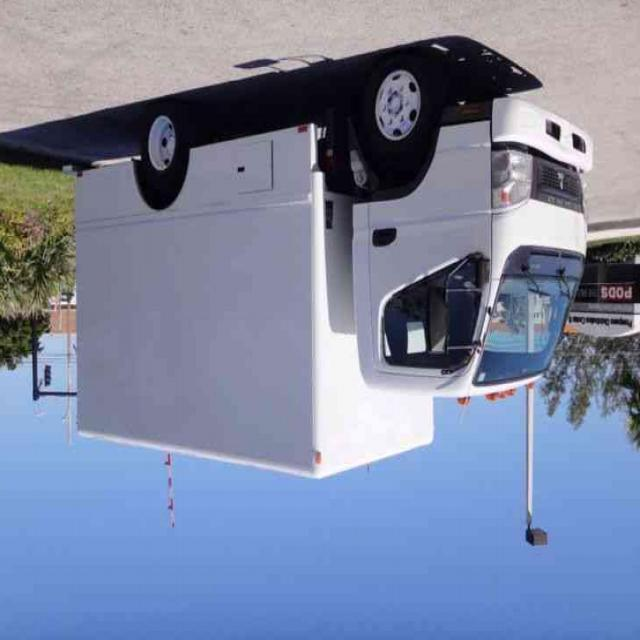truck: (75, 54, 594, 482)
